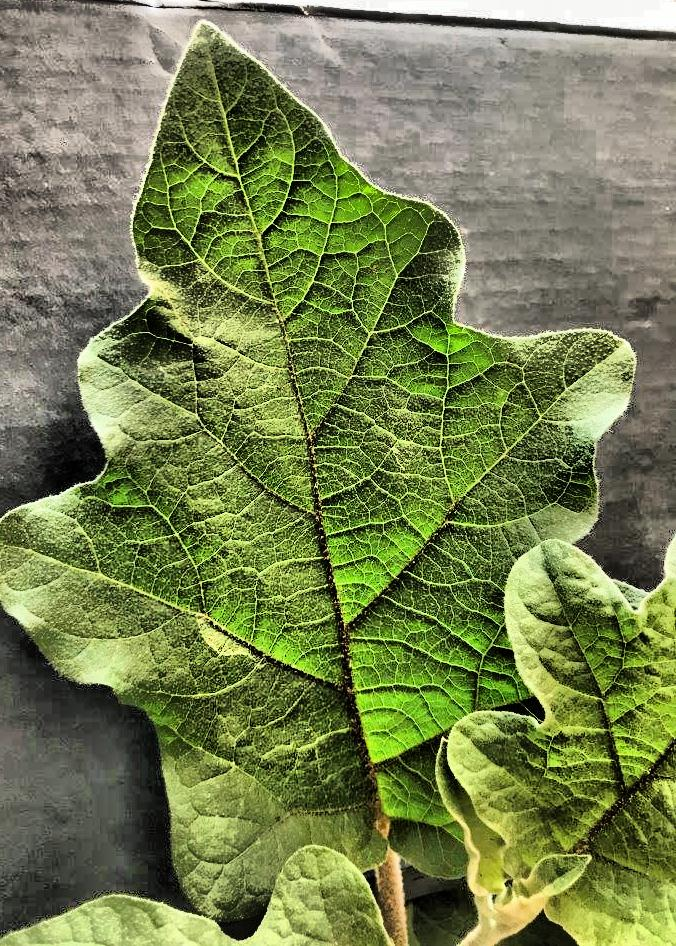HEALTHY: (1, 0, 676, 946)
